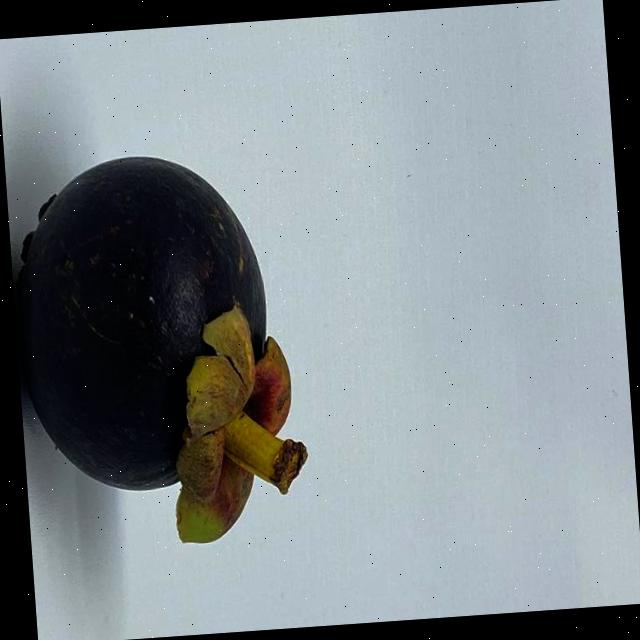mangosteen: (3, 132, 334, 560)
